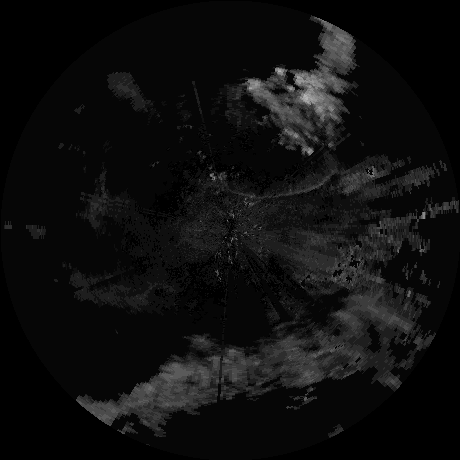frontgust: (228, 169, 335, 201)
